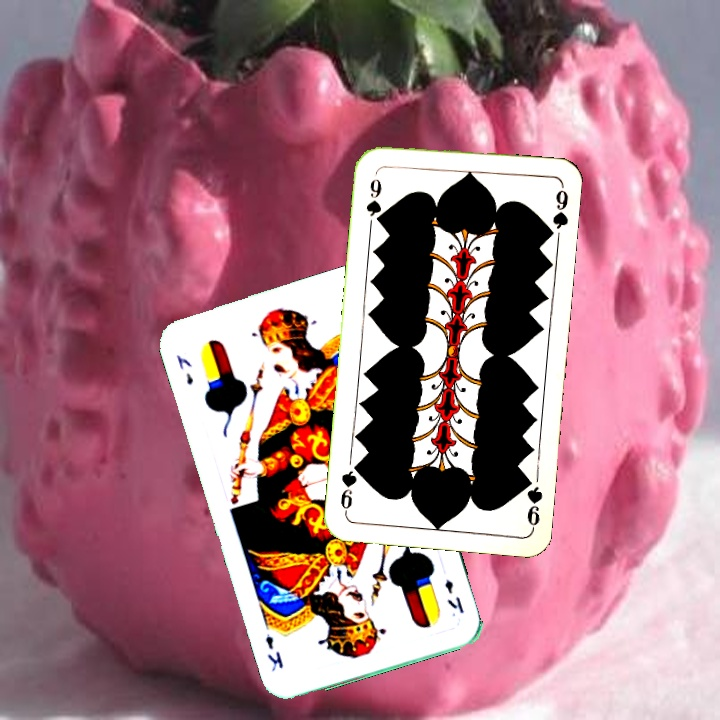EK: (440, 575, 467, 616), (173, 350, 196, 388)
G9: (520, 471, 545, 531), (362, 174, 384, 227)
